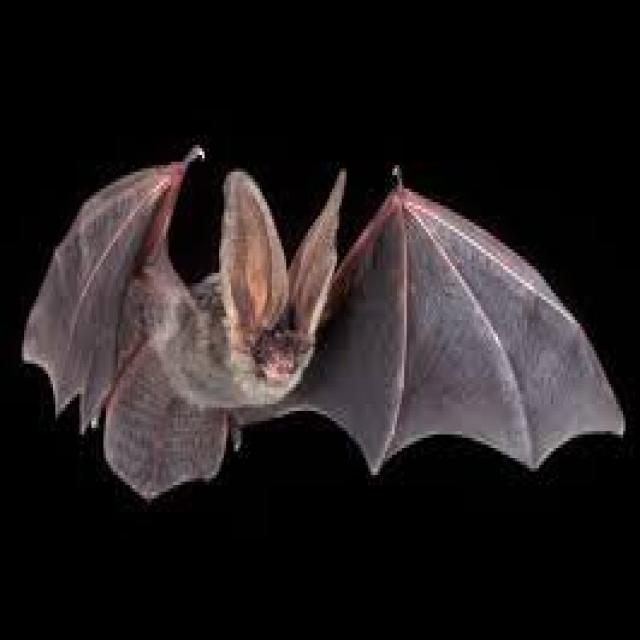Bat: (21, 158, 624, 521)
